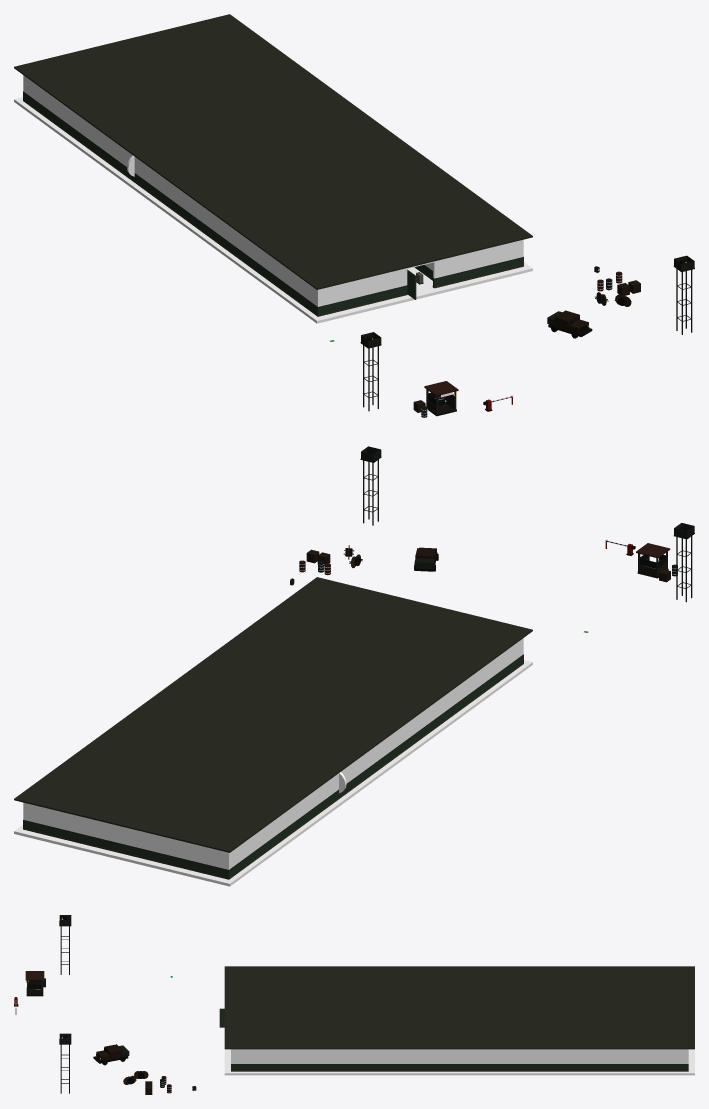
File: station_interior_complex.obj
3 views of the same model, one above another, from view 1: azimuth 30°, elevation 25°; view 2: azimuth 150°, elevation 25°; view 3: azimuth 270°, elevation 25° (orthographic). The views are drawn at different scales.
Visible parts, largest first — view 1: station_interior_complex_DA_0001, station_interior_complex_DA_0540, station_interior_complex_DA_0000, station_interior_complex_DA_0541, station_interior_complex_DA_0581, station_interior_complex_DA_0543, station_interior_complex_DA_0542; view 2: station_interior_complex_DA_0001, station_interior_complex_DA_0540, station_interior_complex_DA_0541, station_interior_complex_DA_0000, station_interior_complex_DA_0581, station_interior_complex_DA_0543; view 3: station_interior_complex_DA_0001, station_interior_complex_DA_0540, station_interior_complex_DA_0541, station_interior_complex_DA_0000, station_interior_complex_DA_0543, station_interior_complex_DA_0581, station_interior_complex_DA_0542.
Boxes of the visible parts, x1,y1,x2,y2 form: station_interior_complex_DA_0001: (14,14,532,289); station_interior_complex_DA_0540: (23,75,523,306); station_interior_complex_DA_0000: (14,97,532,323); station_interior_complex_DA_0541: (23,92,523,315); station_interior_complex_DA_0581: (361,255,694,411); station_interior_complex_DA_0543: (23,100,523,316); station_interior_complex_DA_0542: (23,91,523,307); station_interior_complex_DA_0001: (14,577,532,852); station_interior_complex_DA_0540: (23,638,523,869); station_interior_complex_DA_0541: (23,655,523,878); station_interior_complex_DA_0000: (14,660,532,886); station_interior_complex_DA_0581: (361,446,694,602); station_interior_complex_DA_0543: (23,662,523,879); station_interior_complex_DA_0001: (224,966,694,1049); station_interior_complex_DA_0540: (231,1049,688,1063); station_interior_complex_DA_0541: (231,1064,688,1070); station_interior_complex_DA_0000: (224,1049,694,1075); station_interior_complex_DA_0543: (231,1070,688,1071); station_interior_complex_DA_0581: (59,915,71,1093); station_interior_complex_DA_0542: (231,1064,688,1064).
Bounding box in the file's own units: 38.77 × 8.44 × 89.78.
